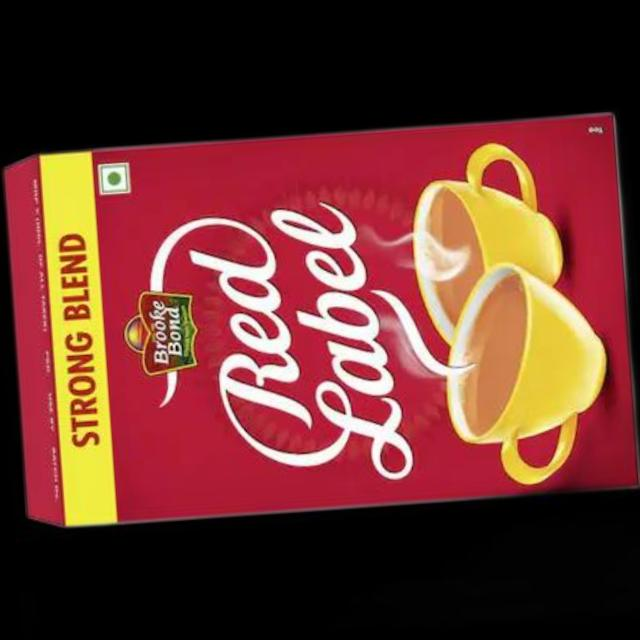Brooke Bond Red Label Leaf Tea 500 g: (0, 106, 640, 539)
